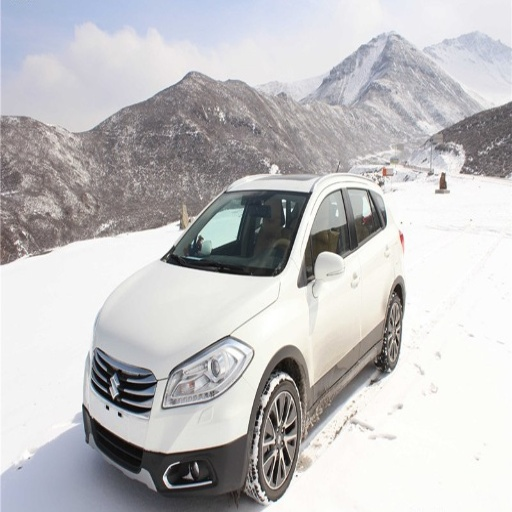front_bumper: (81, 347, 260, 494)
front_glass: (163, 190, 310, 275)
front_left_door: (305, 182, 361, 389)
